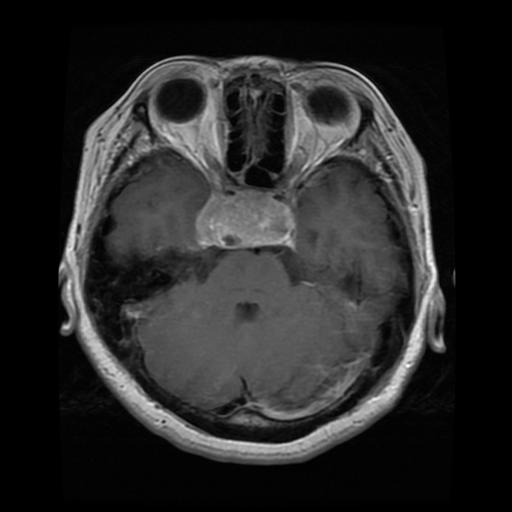Pituirity_tumour: (197, 192, 293, 242)
